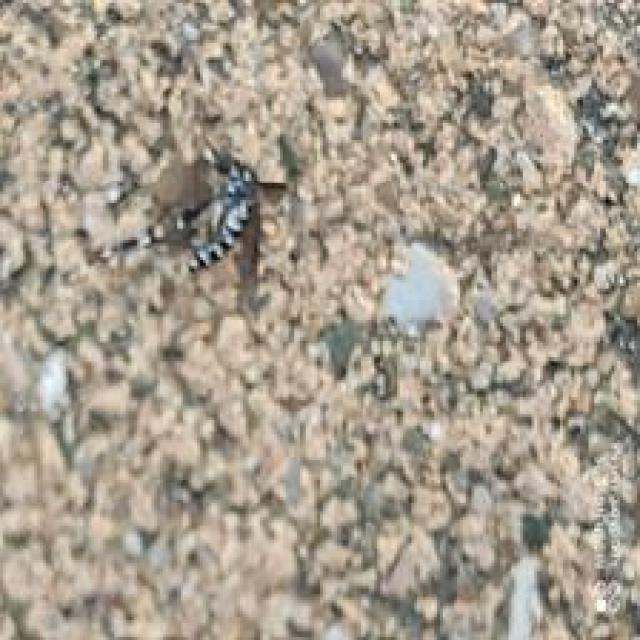Aedes albopictus: (97, 134, 289, 277)
